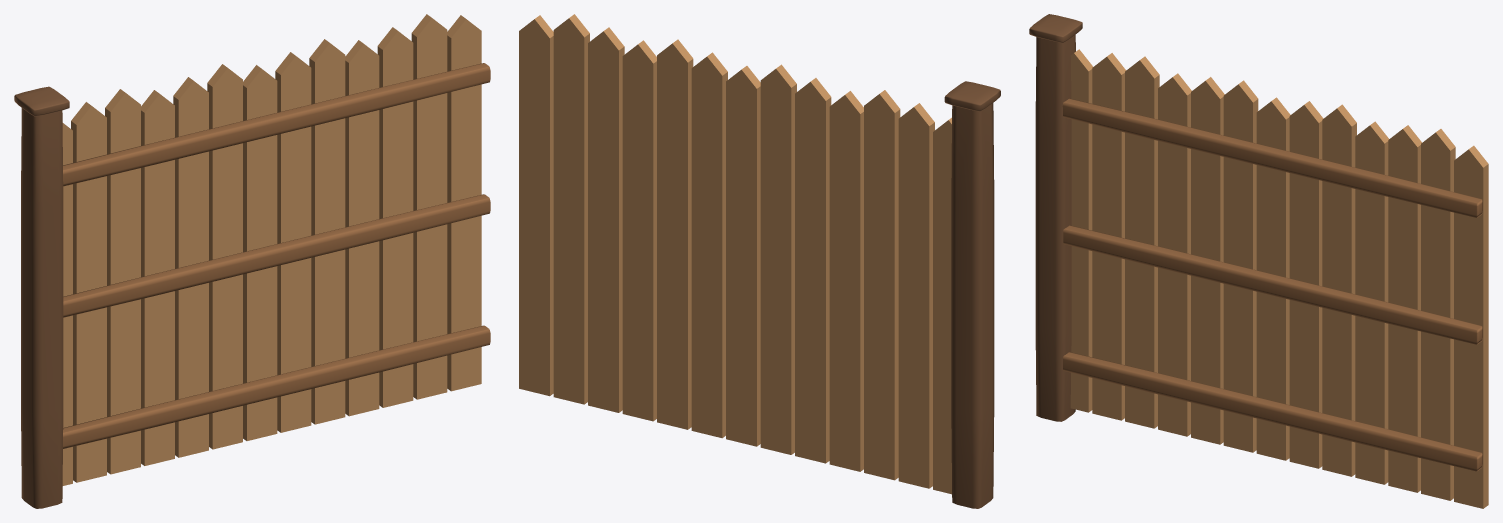
File: StruggleFence.obj
The picture shows the model from 3 angles, left to right: view 1: azimuth 30°, elevation 25°; view 2: azimuth 150°, elevation 25°; view 3: azimuth 330°, elevation 25°; orthographic projection. The views are drawn at different scales.
Parts seen in each view (by area): view 1: Boards, Rails, Post; view 2: Boards, Post; view 3: Boards, Rails, Post.
Part boxes in pixels (x1,y1,x2,y2): Boards: (62,14,481,485); Rails: (63,63,490,448); Post: (14,86,69,508); Boards: (519,14,951,494); Post: (944,81,1000,508); Boards: (1070,49,1488,508); Rails: (1062,98,1482,471); Post: (1029,14,1082,421).
Bounding box in the file's own units: 12.5 × 10.51 × 0.9954.
